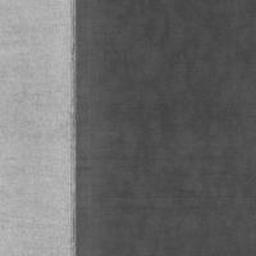Welding line: (69, 0, 77, 256)
